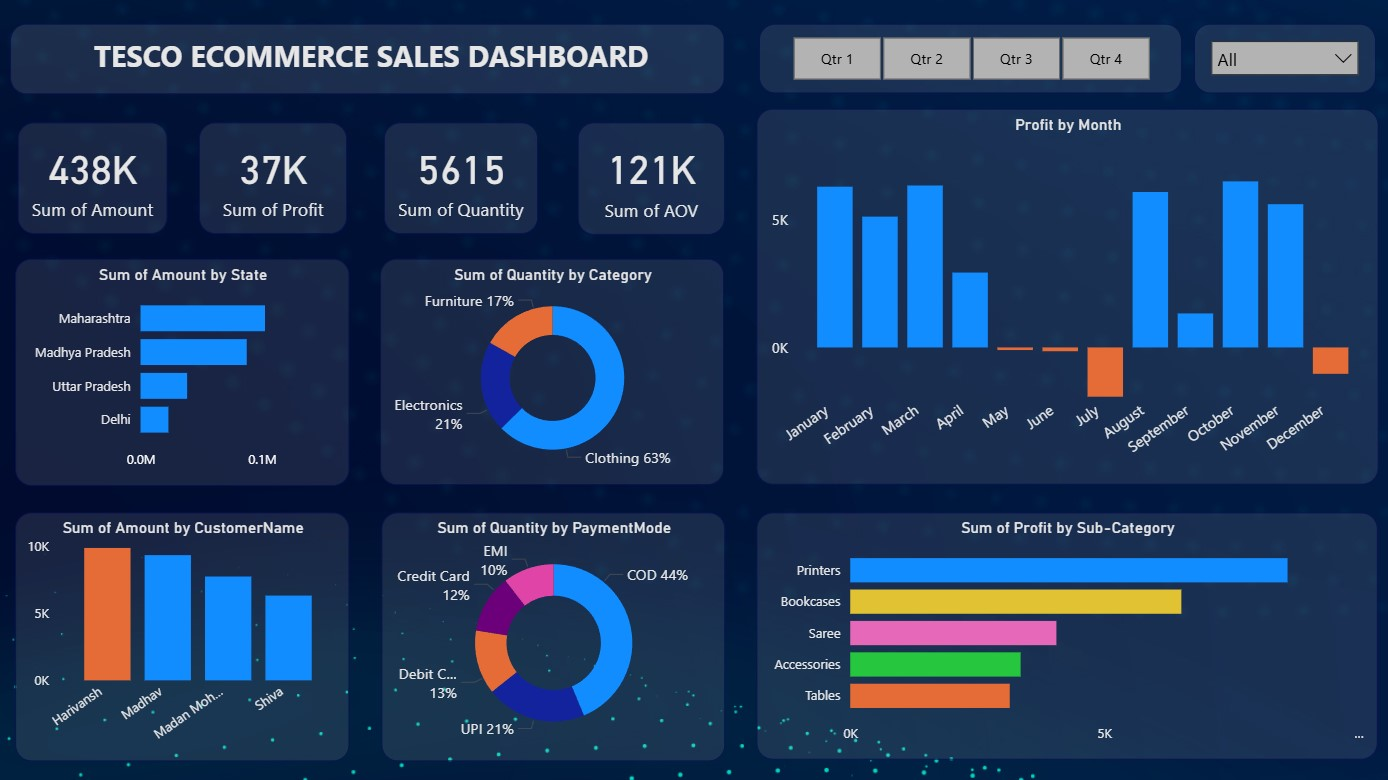

This screenshot's page, from the dashboard's own definition file:
{"tool":"powerbi","page":{"name":"Page 1","canvas":[1280,720],"ordinal":0},"visuals":[{"type":"columnChart","title":"Profit by Month","fields":{"Category":["Orders.Order Date.Variation.Date Hierarchy.Month"],"Y":["Details.Profit"]},"box":[696.7,100,572.1,345.9],"z":0},{"type":"barChart","title":"Sum of Profit by Sub-Category","fields":{"Category":["Details.Sub-Category"],"Y":["Details.Profit"]},"box":[696.2,471.2,571.2,227.5],"z":1000},{"type":"donutChart","fields":{"Category":["Details.Category"],"Y":["Details.Quantity"]},"box":[350.8,237.7,316.4,208.2],"z":2000},{"type":"donutChart","fields":{"Y":["Details.Quantity"],"Category":["Details.PaymentMode"]},"box":[351.2,471.2,316.2,228.8],"z":3000},{"type":"barChart","fields":{"Category":["Orders.State"],"Y":["Details.Amount"]},"box":[15,237.5,307.5,208.8],"z":4000},{"type":"columnChart","fields":{"Y":["Details.Amount"],"Category":["Orders.CustomerName"]},"box":[15,471.2,307.5,228.8],"z":5000},{"type":"card","fields":{"Values":["Details.Amount"]},"box":[17.5,112.5,137.5,102.5],"z":6000},{"type":"card","fields":{"Values":["Details.Profit"]},"box":[183.8,112.5,136.2,102.5],"z":7000},{"type":"card","fields":{"Values":["Details.Quantity"]},"box":[353.8,112.5,141.2,102.5],"z":8000},{"type":"card","fields":{"Values":["Details.AOV"]},"box":[532.3,112.3,135.4,103.1],"z":9000},{"type":"textbox","box":[10.8,21.5,656.9,64.6],"z":10000},{"type":"slicer","fields":{"Values":["Orders.Order Date.Variation.Date Hierarchy.Quarter"]},"box":[698.6,21.9,389,64.4],"z":10001},{"type":"slicer","fields":{"Values":["Orders.State"]},"box":[1098.6,21.9,167.1,64.4],"z":10002}]}

Visuals, with their boxes in screenshot pixels (x1, y1, x2, y2), scaled from the page's 1280x720 canvas onto the 1388x780 screenshot:
"Profit by Month" columnChart: bbox(755, 108, 1376, 483)
"Sum of Profit by Sub-Category" barChart: bbox(755, 510, 1374, 757)
donutChart - Details.Category x Details.Quantity: bbox(380, 258, 723, 483)
donutChart - Details.Quantity x Details.PaymentMode: bbox(381, 510, 724, 758)
barChart - Orders.State x Details.Amount: bbox(16, 257, 350, 483)
columnChart - Details.Amount x Orders.CustomerName: bbox(16, 510, 350, 758)
card - Details.Amount: bbox(19, 122, 168, 233)
card - Details.Profit: bbox(199, 122, 347, 233)
card - Details.Quantity: bbox(384, 122, 537, 233)
card - Details.AOV: bbox(577, 122, 724, 233)
textbox: bbox(12, 23, 724, 93)
slicer - Orders.Order Date.Variation.Date Hierarchy.Quarter: bbox(758, 24, 1179, 93)
slicer - Orders.State: bbox(1191, 24, 1372, 93)
